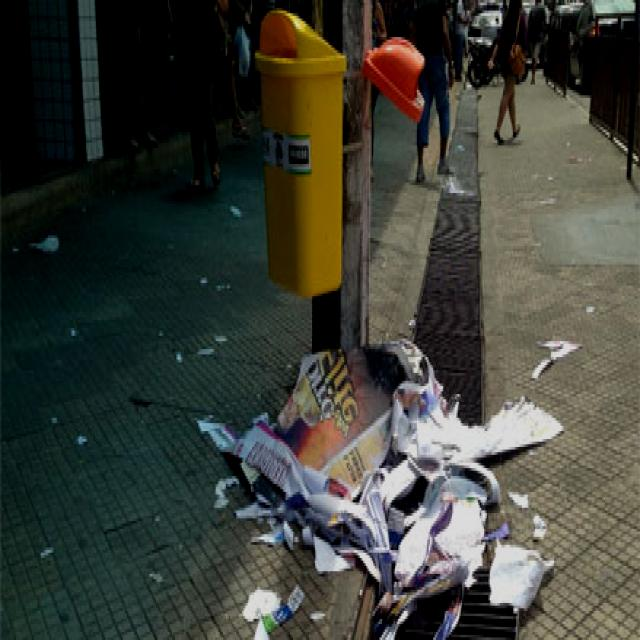garbage: (189, 318, 581, 640)
